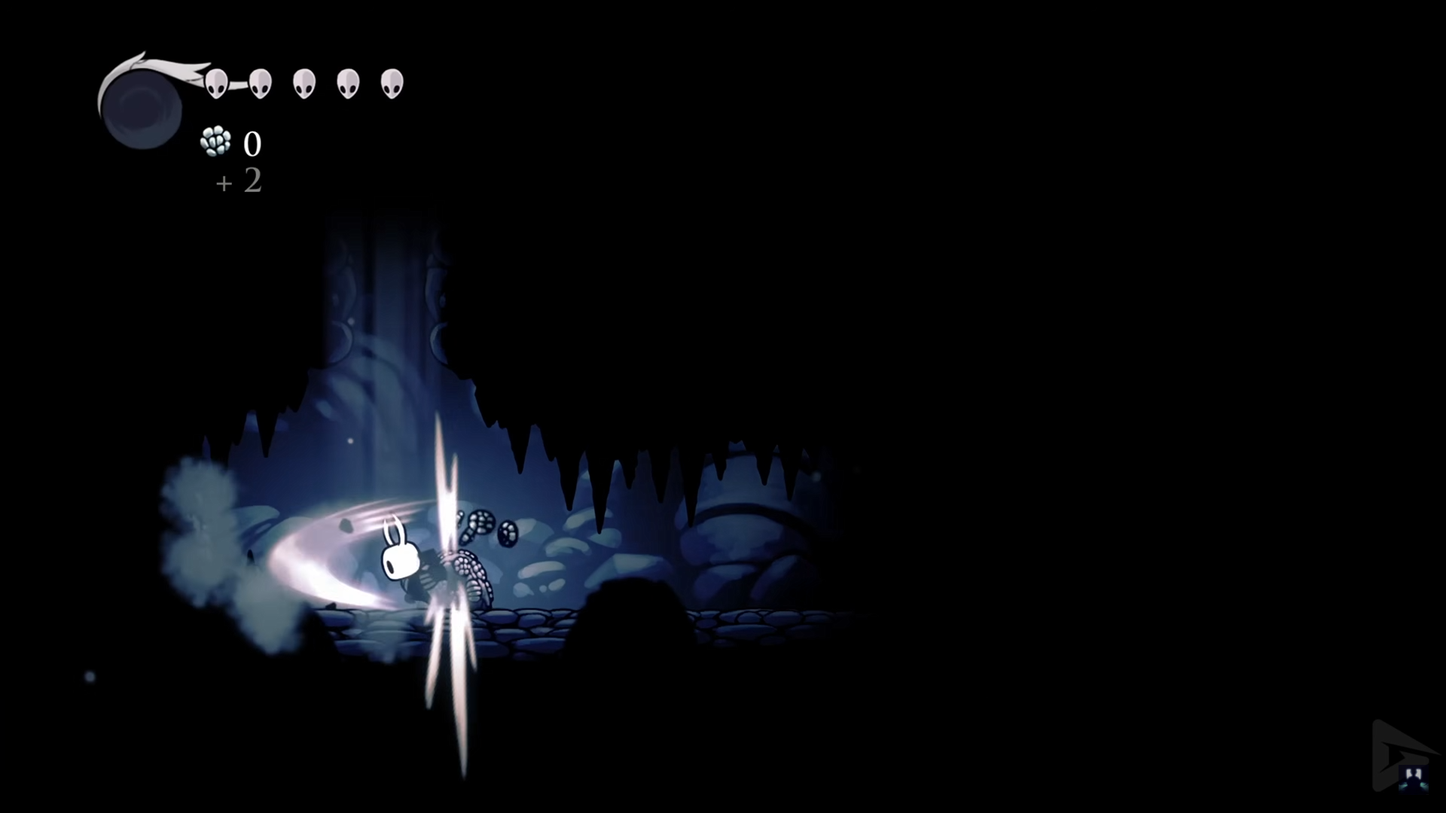HK: (374, 515, 431, 613)
